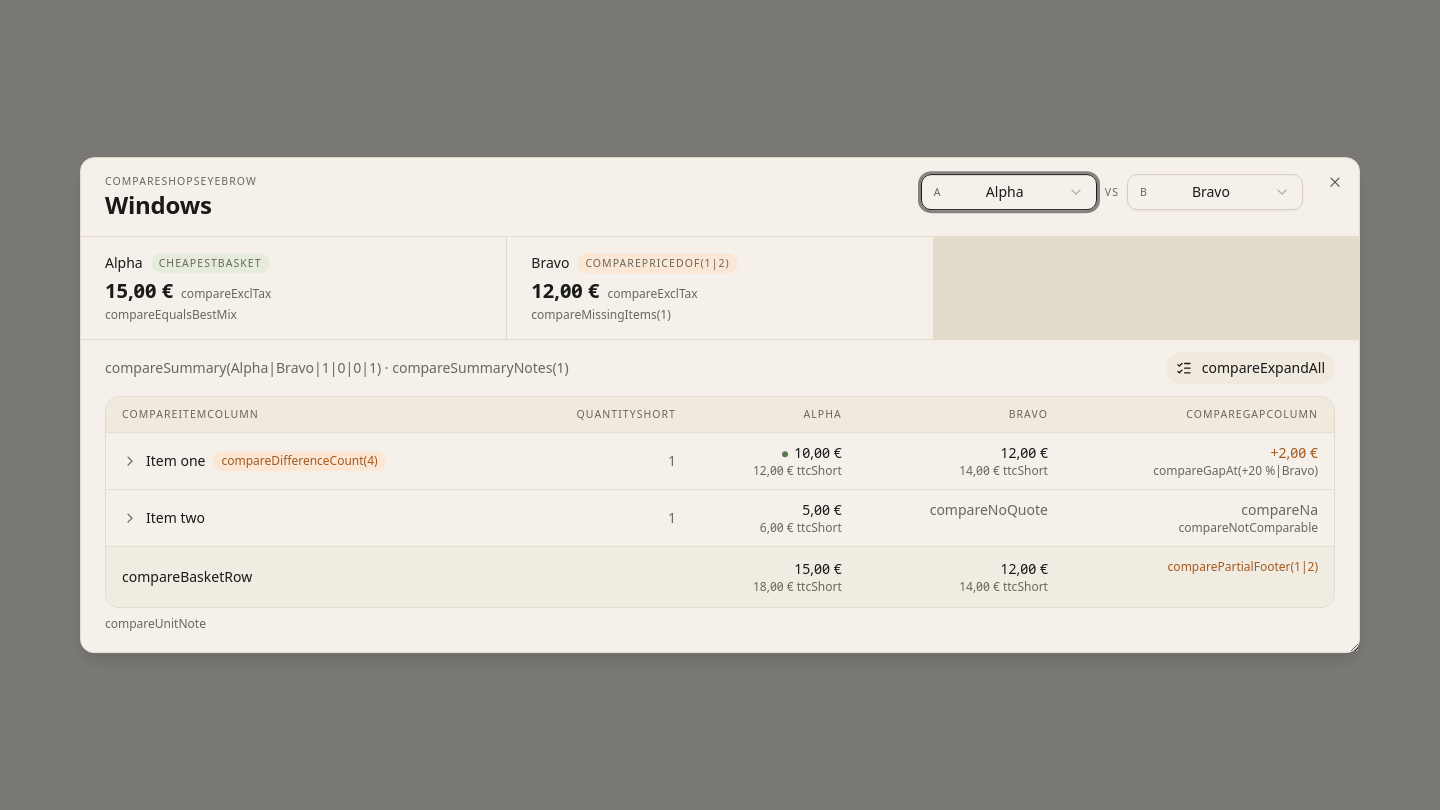
Test: SectionCompareDialog › keeps rows collapsed until asked, then expands all and remembers it
Click the button with test id "compare-diff-toggle". click: (1250, 368)
box: [1166,352,1335,384]
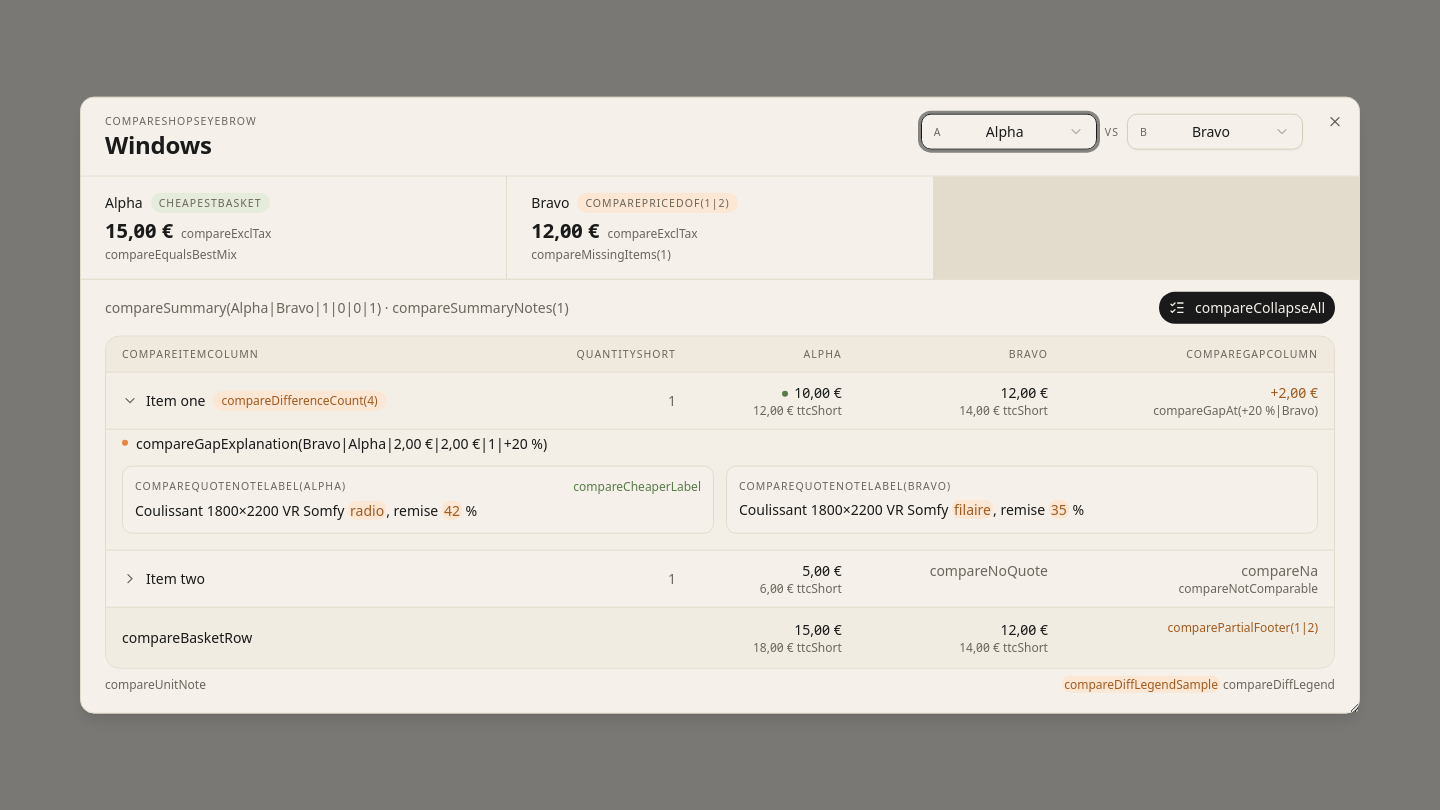
Result: the number of rows with test id "section-compare-note-row" is 1 at [106,429,1334,550]
Result: the element with test id "compare-diff-legend" is shown at [1062,676,1335,692]
